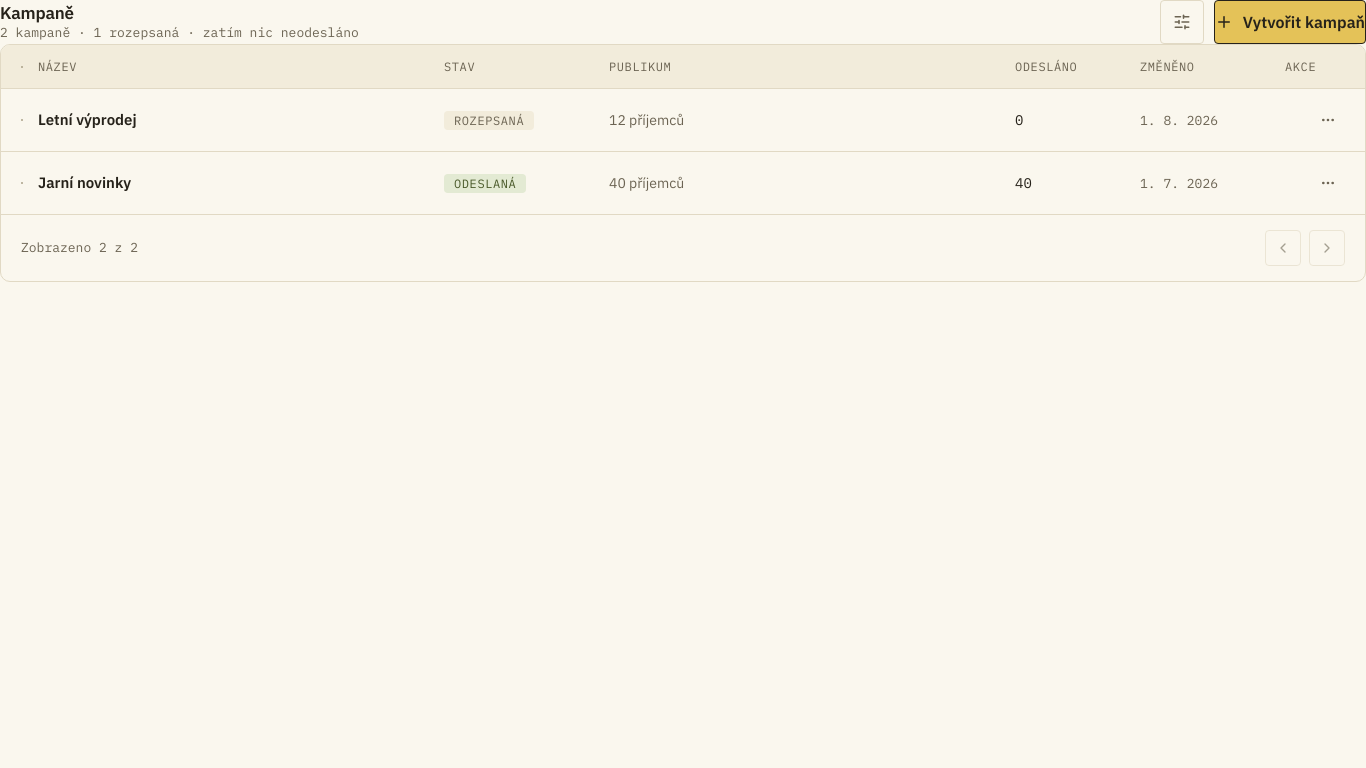
Test: hromadné mazání ze seznamu › maže se jen to, co jde, a odeslaná kampaň zůstane ve výběru
The width and height of the screenshot is (1366, 768).
Click the 1st checkbox named "Označit řádek" at coordinates (22, 120), box 21,119 -> 23,121
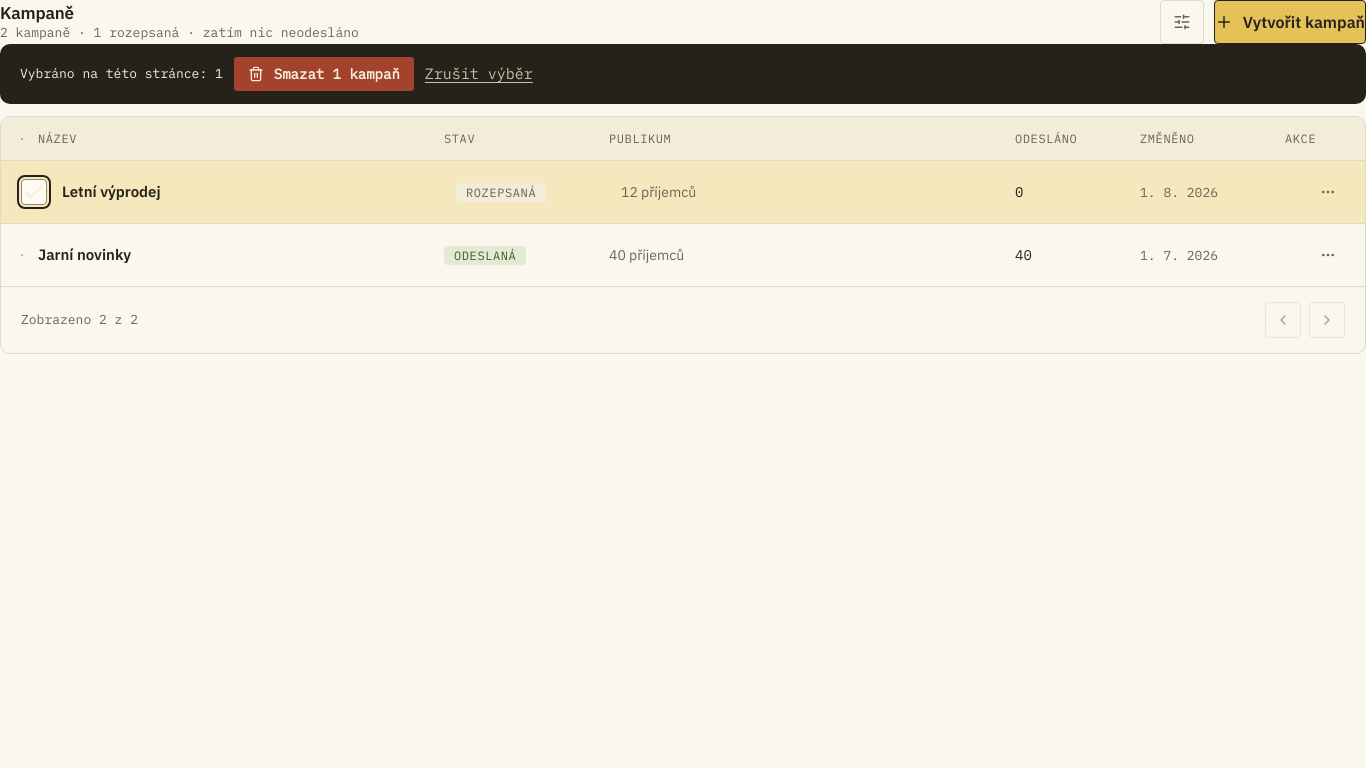
Click the 2nd checkbox named "Označit řádek" at coordinates (22, 255), box 21,254 -> 23,256
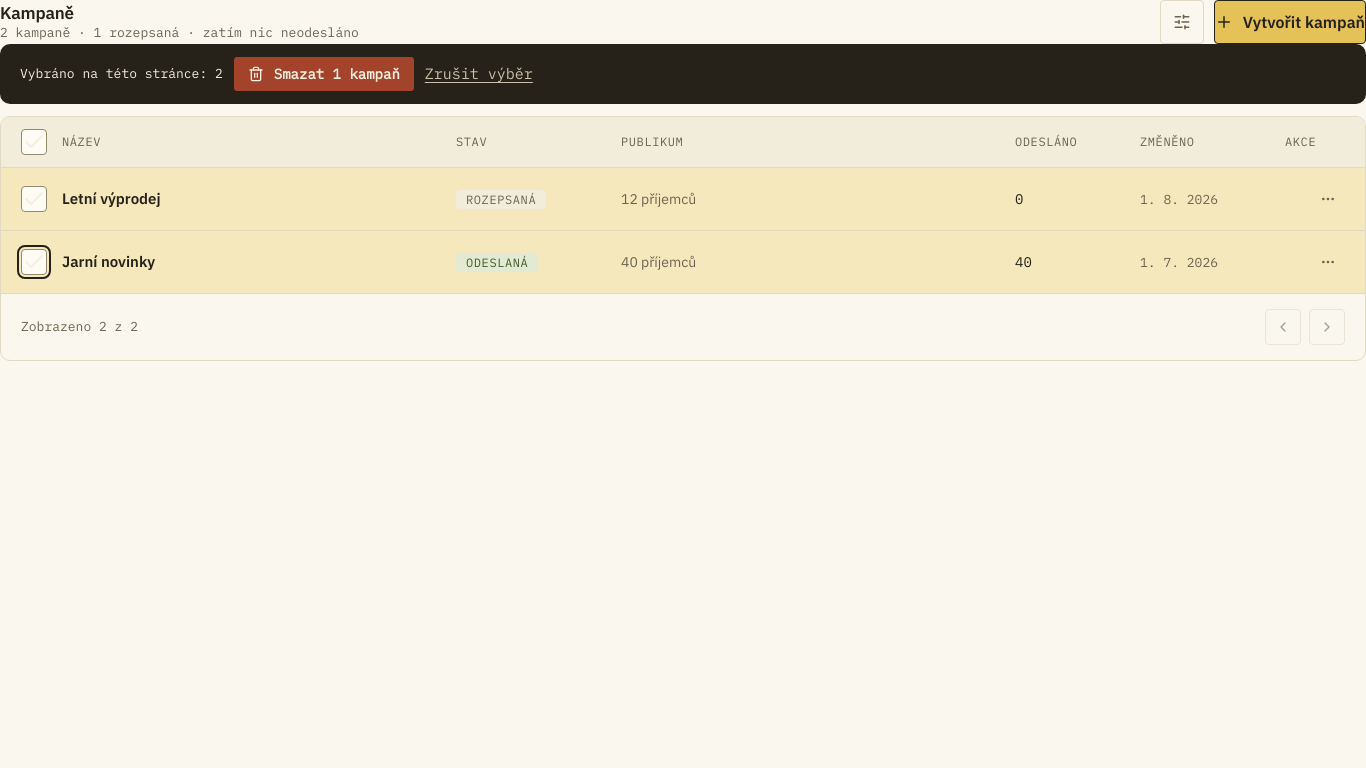
Click the button with test id "campaigns-bulk-delete" at coordinates (324, 74), box 233,56 -> 415,92
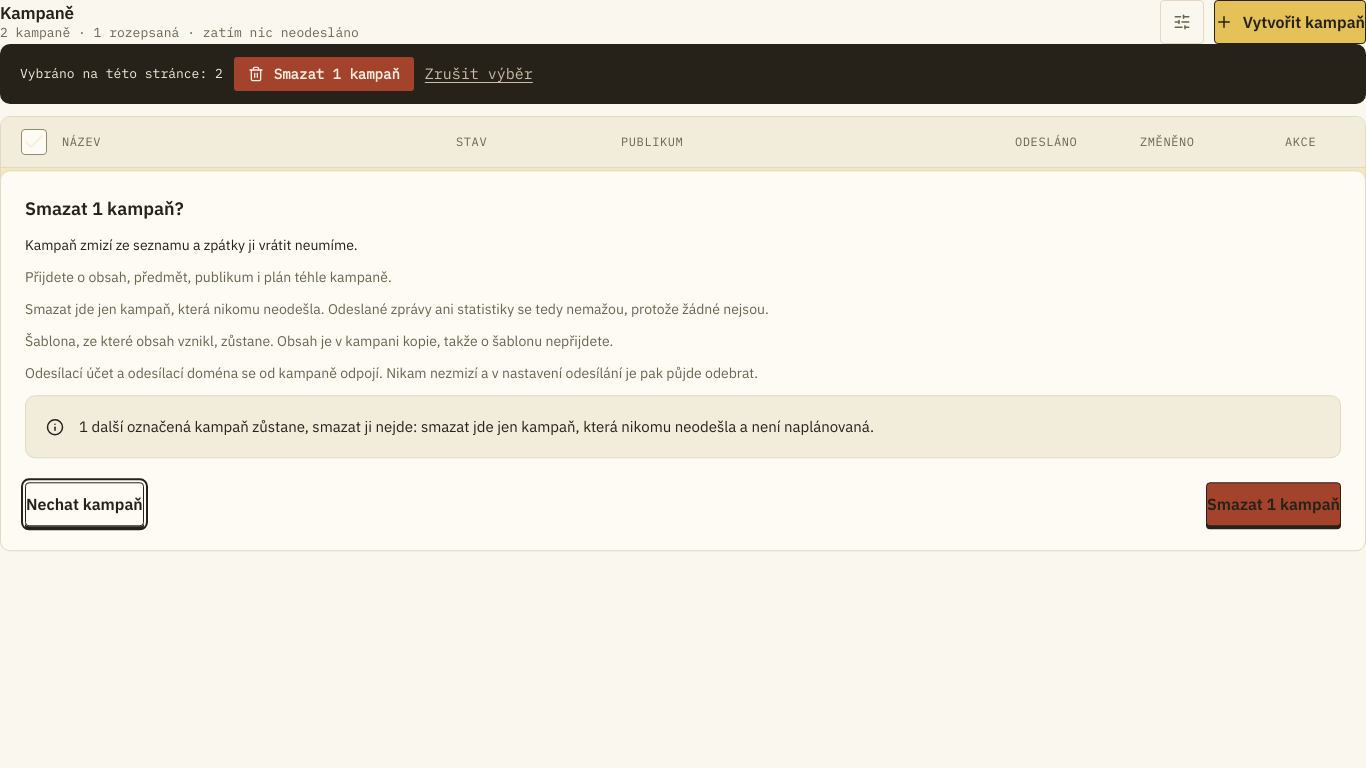
Click the button with test id "bulk-delete-campaigns-submit" at coordinates (1274, 505), box 1206,483 -> 1341,527
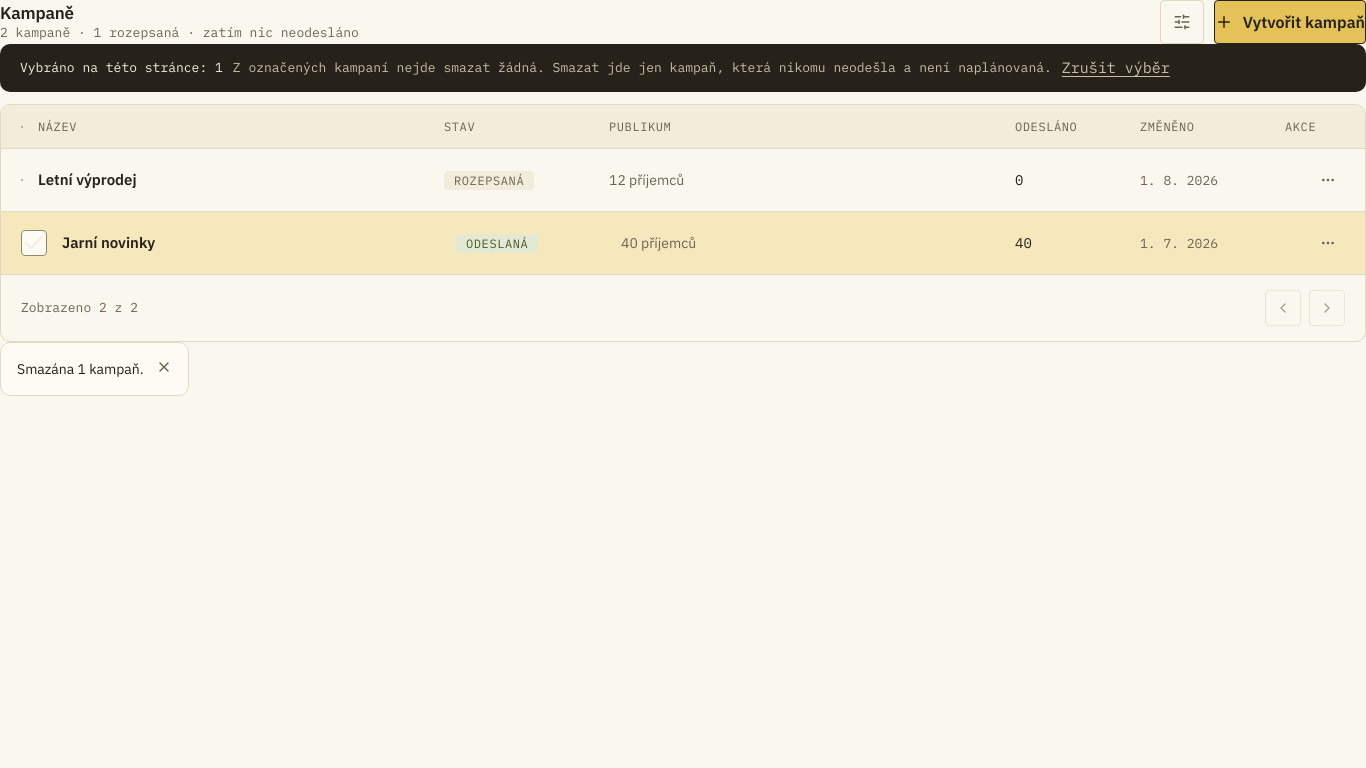
Check: the button with test id "campaigns-bulk-delete" is gone
Check: the text with test id "campaigns-bulk-nothing" shows "Z označených kampaní nejde smazat žádná", box 233,59 -> 1052,76
